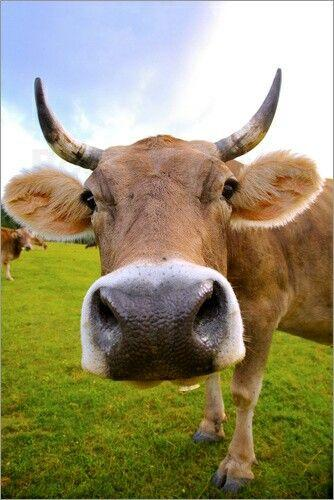cow: (20, 74, 314, 421)
